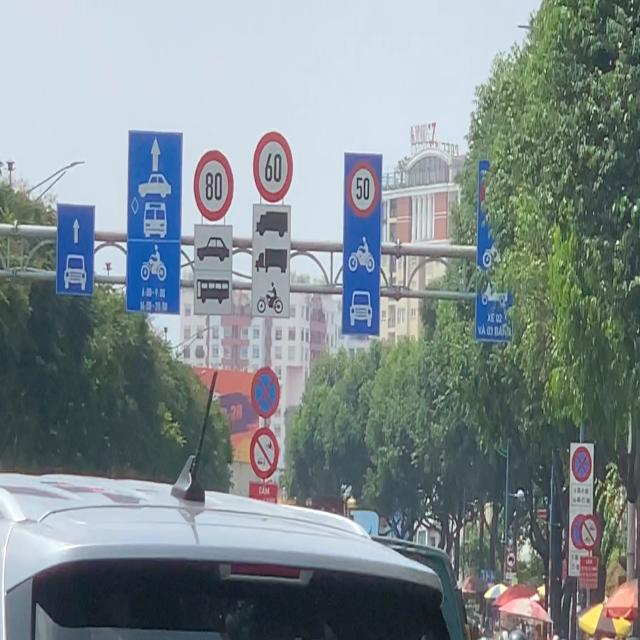Cam con lai: (250, 426, 280, 479)
Cam dung va do: (250, 364, 281, 420), (570, 444, 594, 485), (578, 513, 598, 555)
Toc do toi da: (250, 133, 296, 200), (194, 148, 236, 220), (345, 151, 382, 220)
